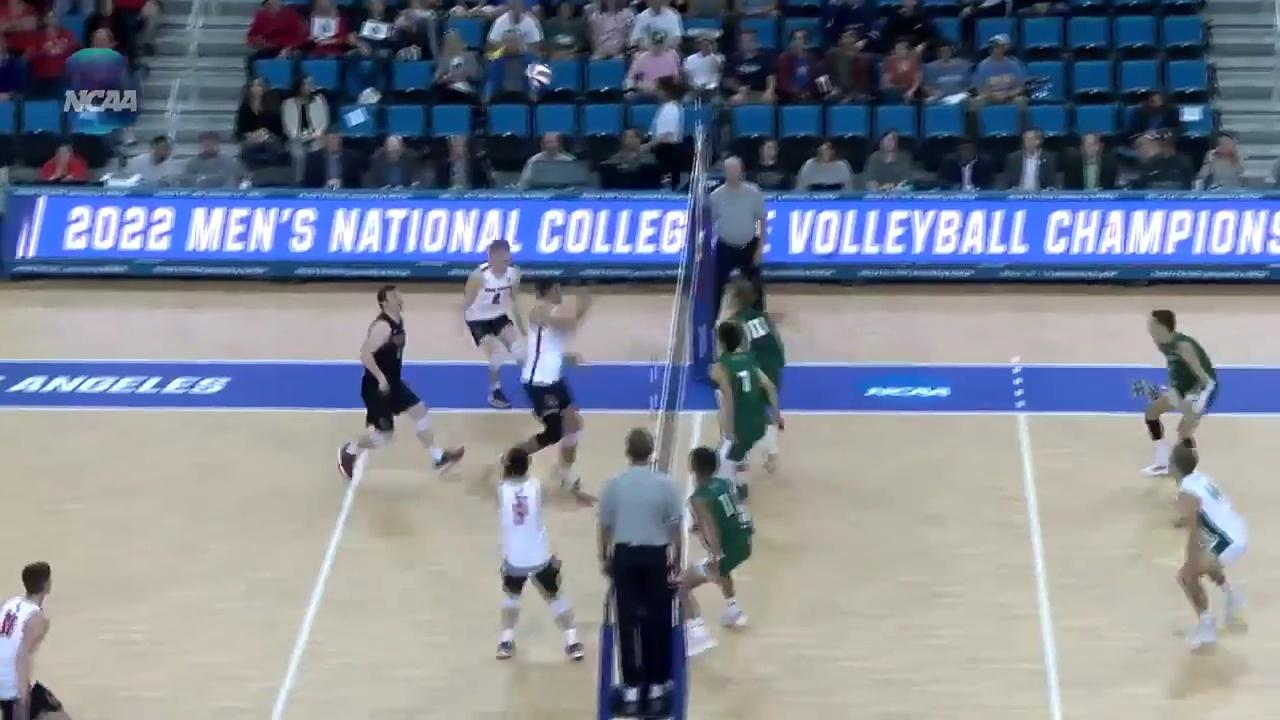player: (342, 285, 463, 481), (492, 283, 598, 502), (484, 449, 589, 661), (1158, 448, 1247, 655), (699, 318, 776, 534), (677, 449, 756, 640), (711, 277, 785, 475), (1130, 311, 1214, 474), (455, 241, 527, 414), (0, 562, 68, 719)
refree: (602, 428, 683, 713), (692, 149, 775, 334)
